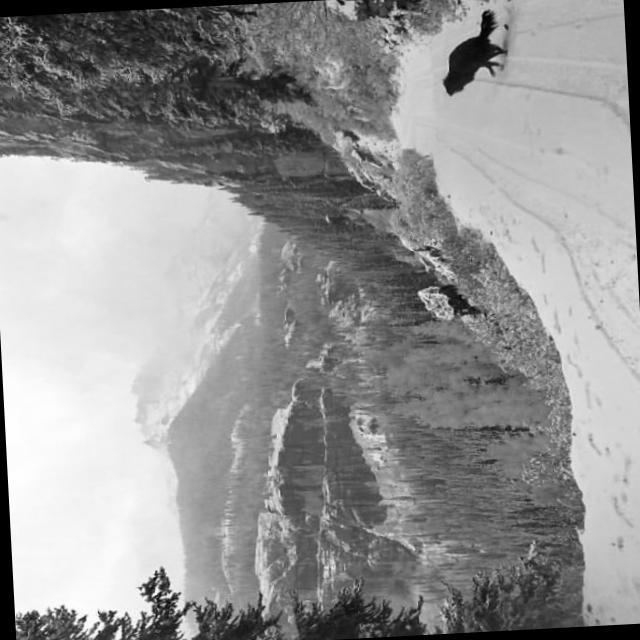squatting: (431, 5, 514, 100)
